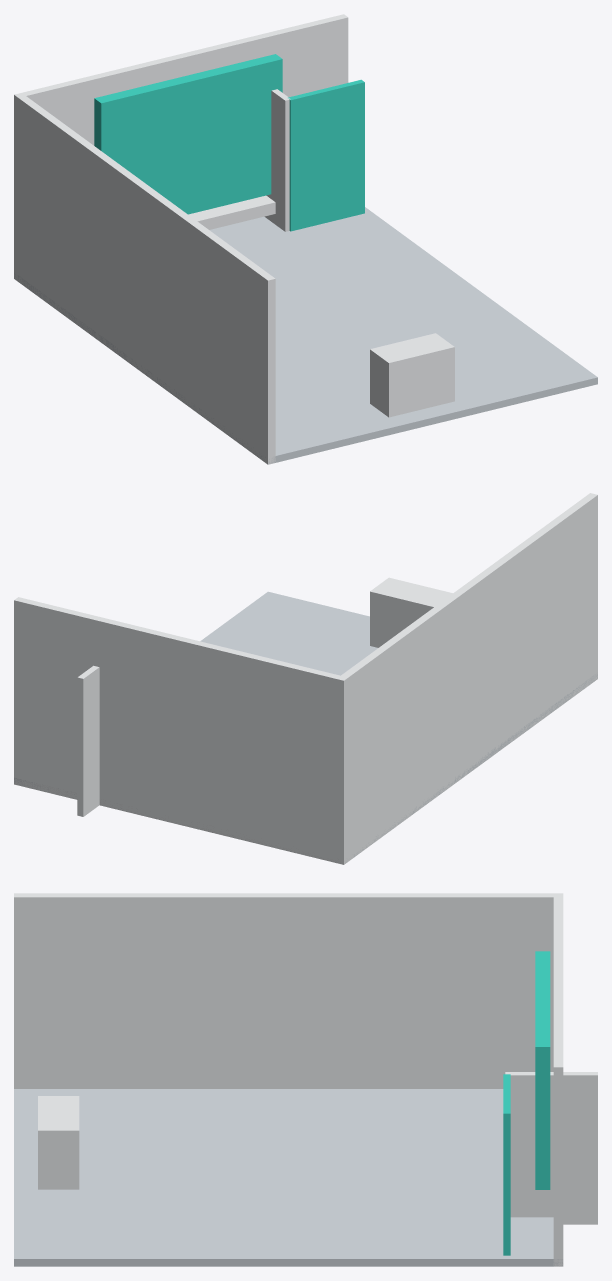
3 views of the same model, one above another, from view 1: azimuth 30°, elevation 25°; view 2: azimuth 150°, elevation 25°; view 3: azimuth 270°, elevation 25° (orthographic). The views are drawn at different scales.
Parts seen in each view (by area): view 1: Exhibition Booth Concept; view 2: Exhibition Booth Concept; view 3: Exhibition Booth Concept.
Boxes of the visible parts, <box> form: Exhibition Booth Concept: <box>14,14,597,464</box>; Exhibition Booth Concept: <box>14,493,597,864</box>; Exhibition Booth Concept: <box>14,893,597,1266</box>.
Size of the model in its own units: 6 by 3.2 by 8.51.
